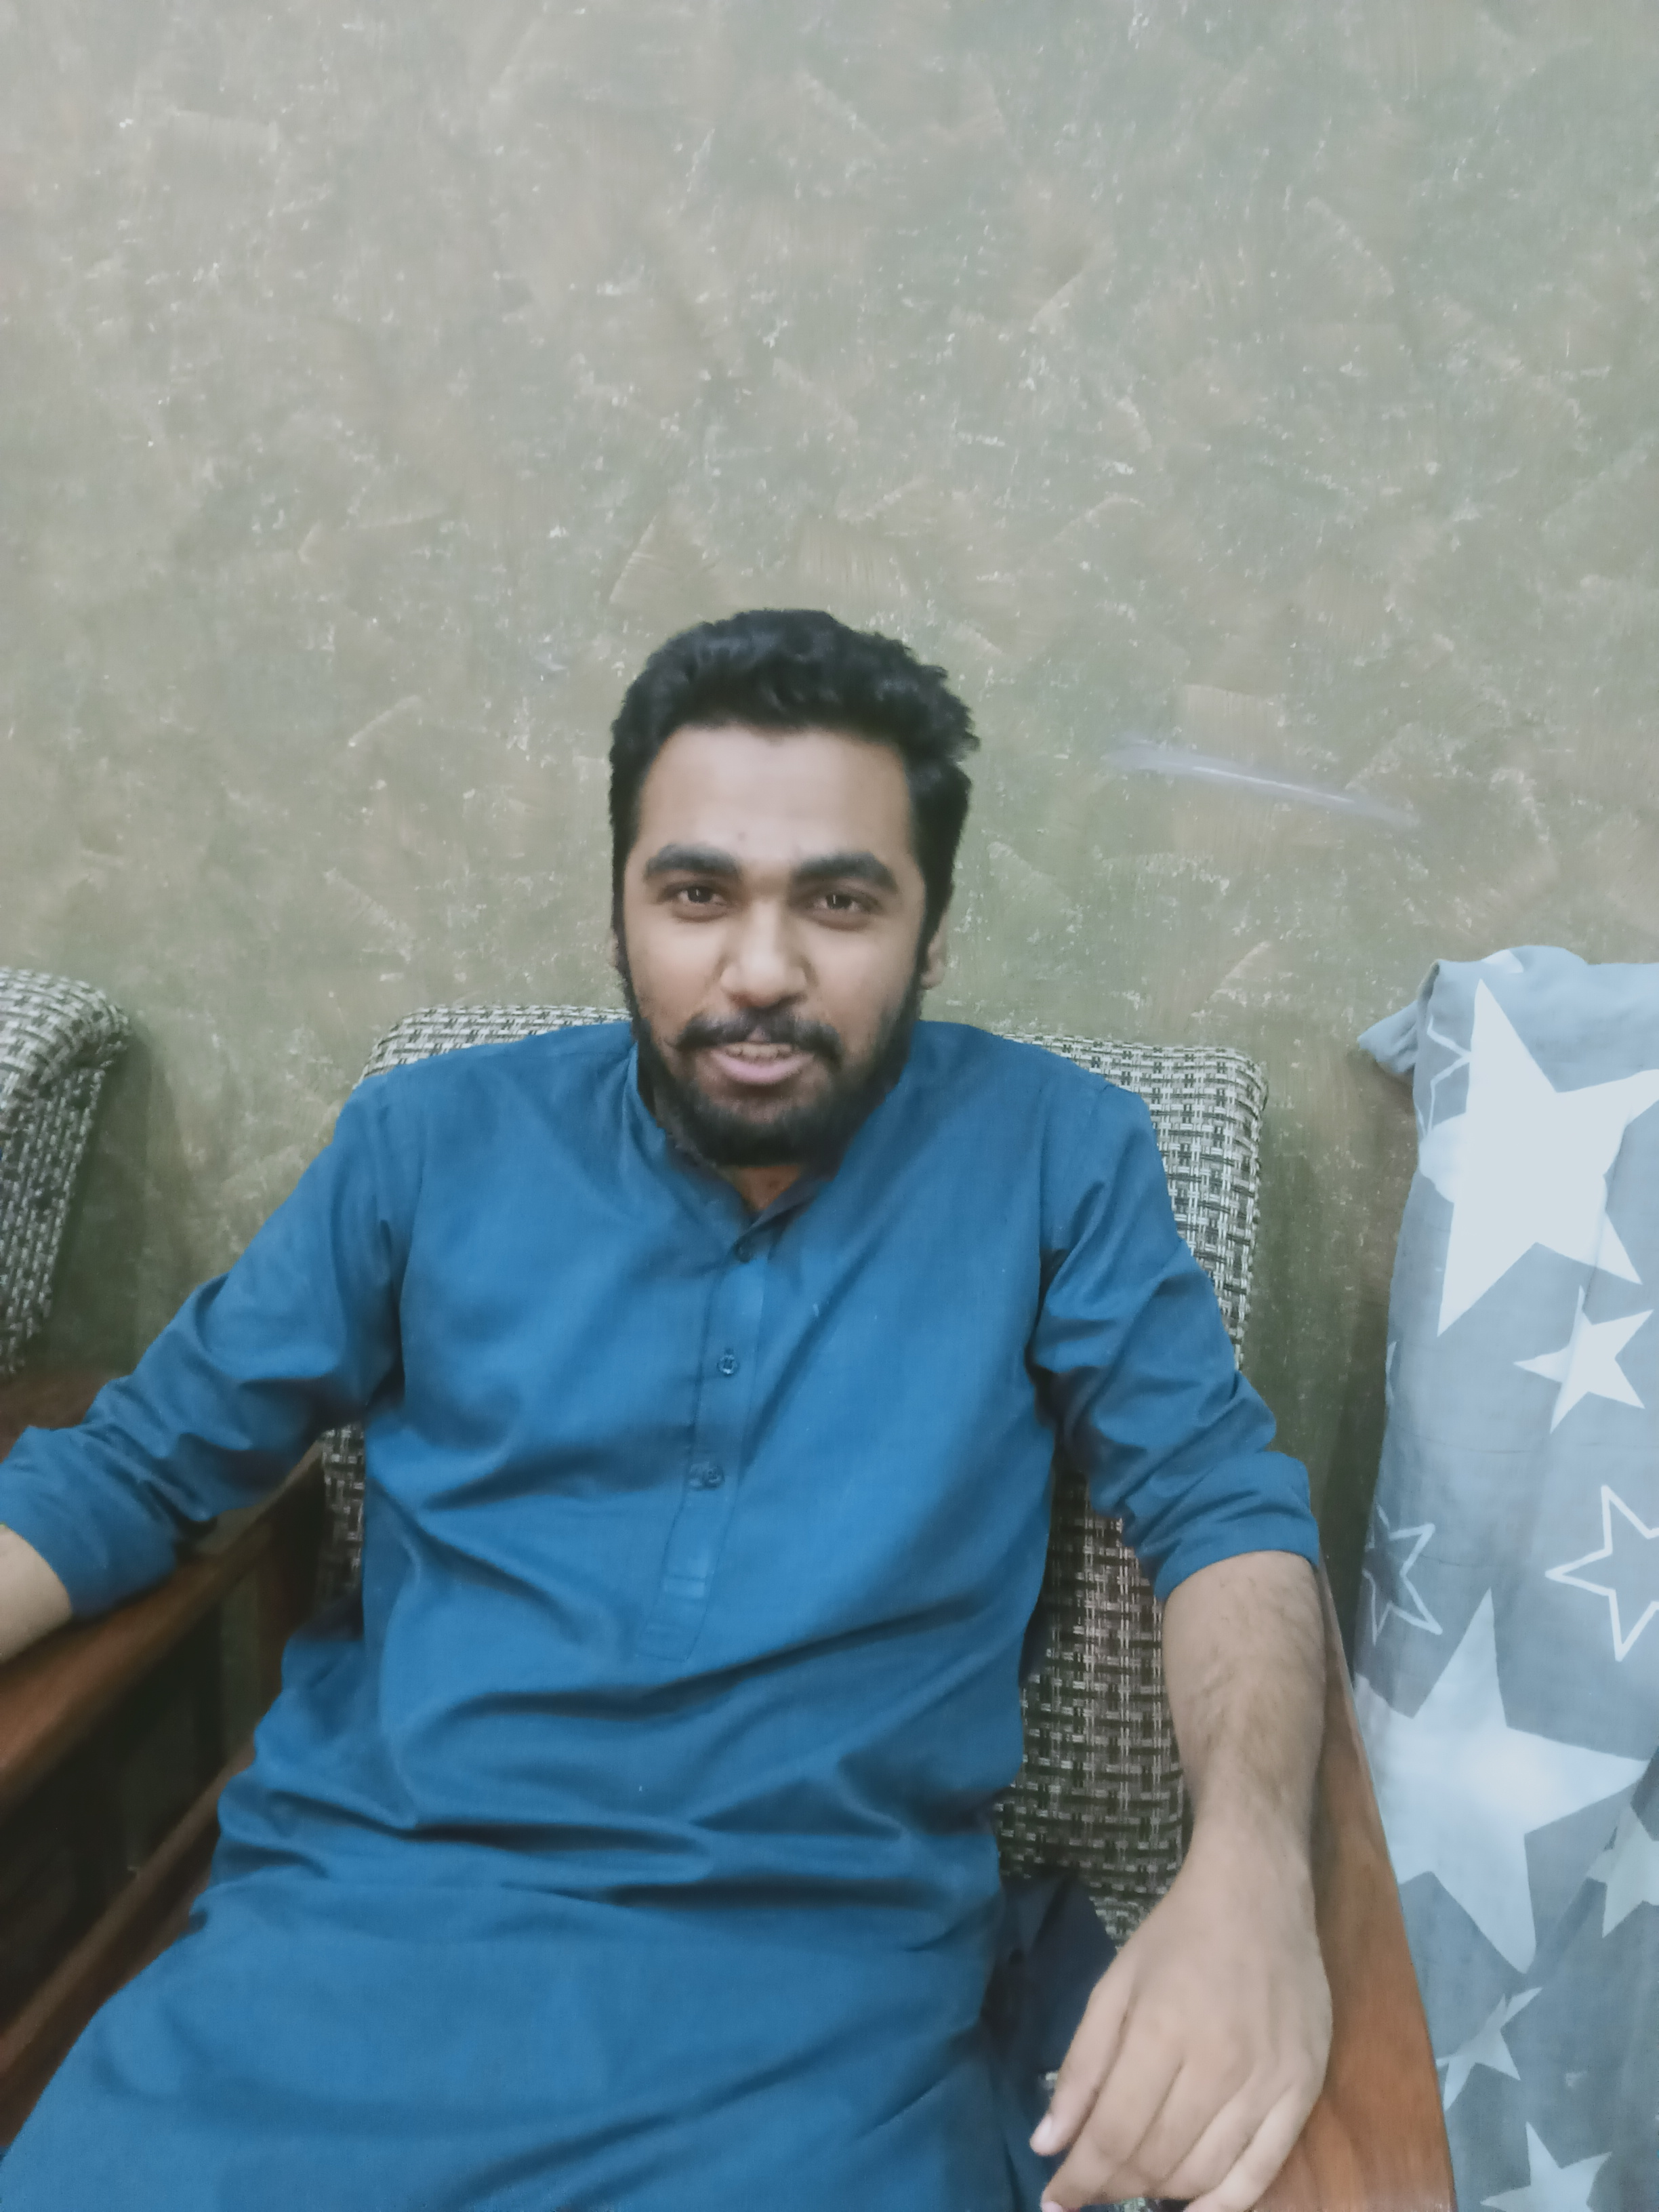NoMask: (623, 815, 904, 1153)
